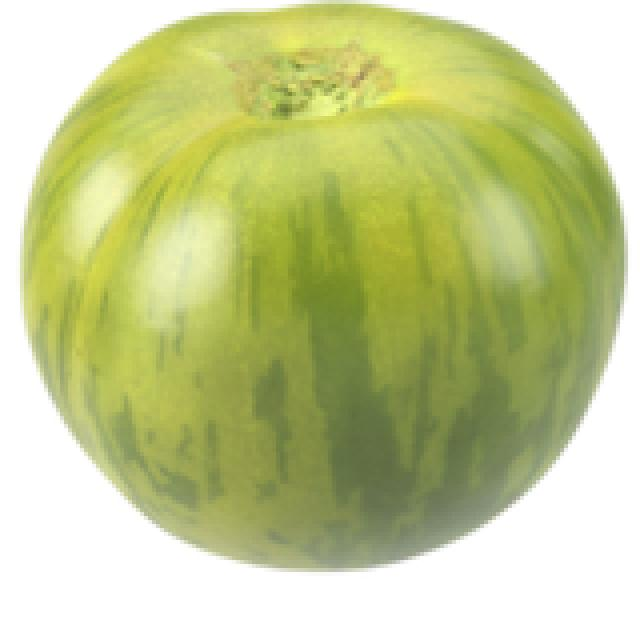yesil: (24, 2, 638, 567)
